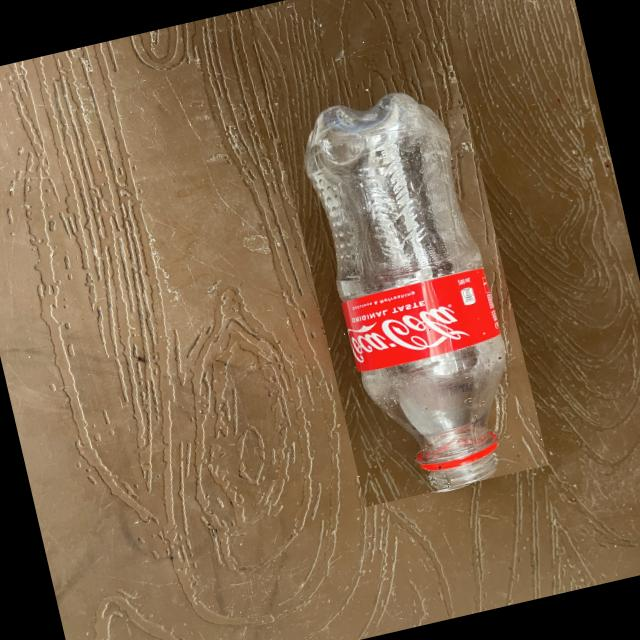REJECT: (251, 0, 548, 506)
